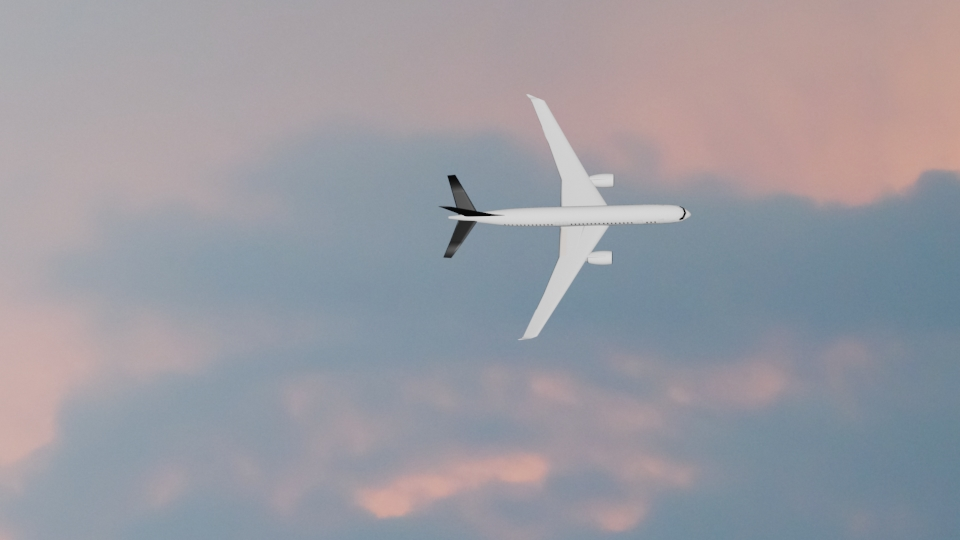plane: (440, 92, 699, 345)
